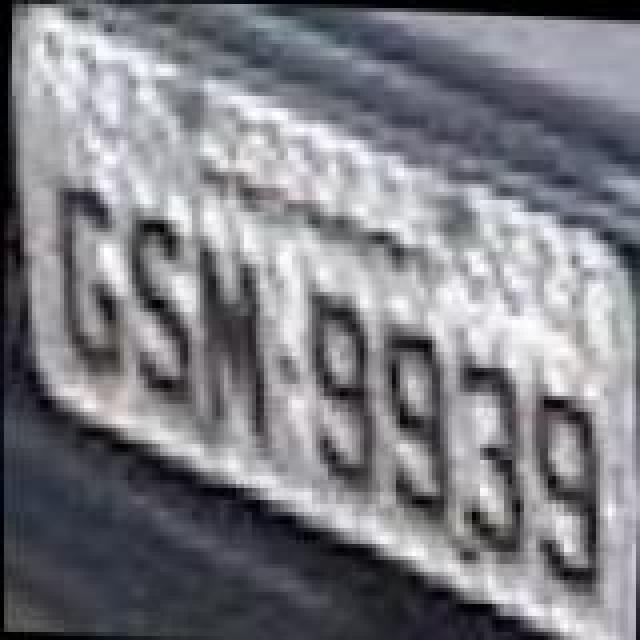3: (444, 360, 528, 560)
9: (522, 384, 606, 596), (294, 296, 378, 496), (372, 324, 456, 524)
G: (46, 182, 130, 382)
M: (188, 232, 272, 444)
S: (120, 214, 196, 402)
